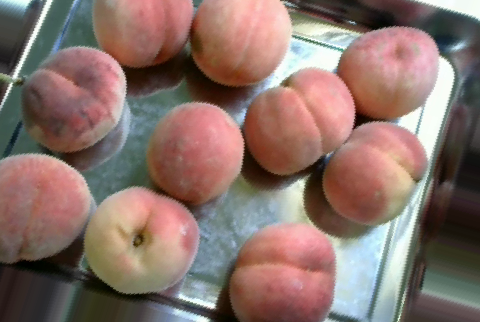Peach: (82, 184, 199, 296), (244, 67, 355, 174), (319, 123, 427, 226), (228, 220, 337, 322), (18, 48, 127, 148), (0, 153, 92, 262), (146, 102, 243, 205), (332, 27, 441, 118), (189, 0, 293, 85), (93, 0, 191, 68)
